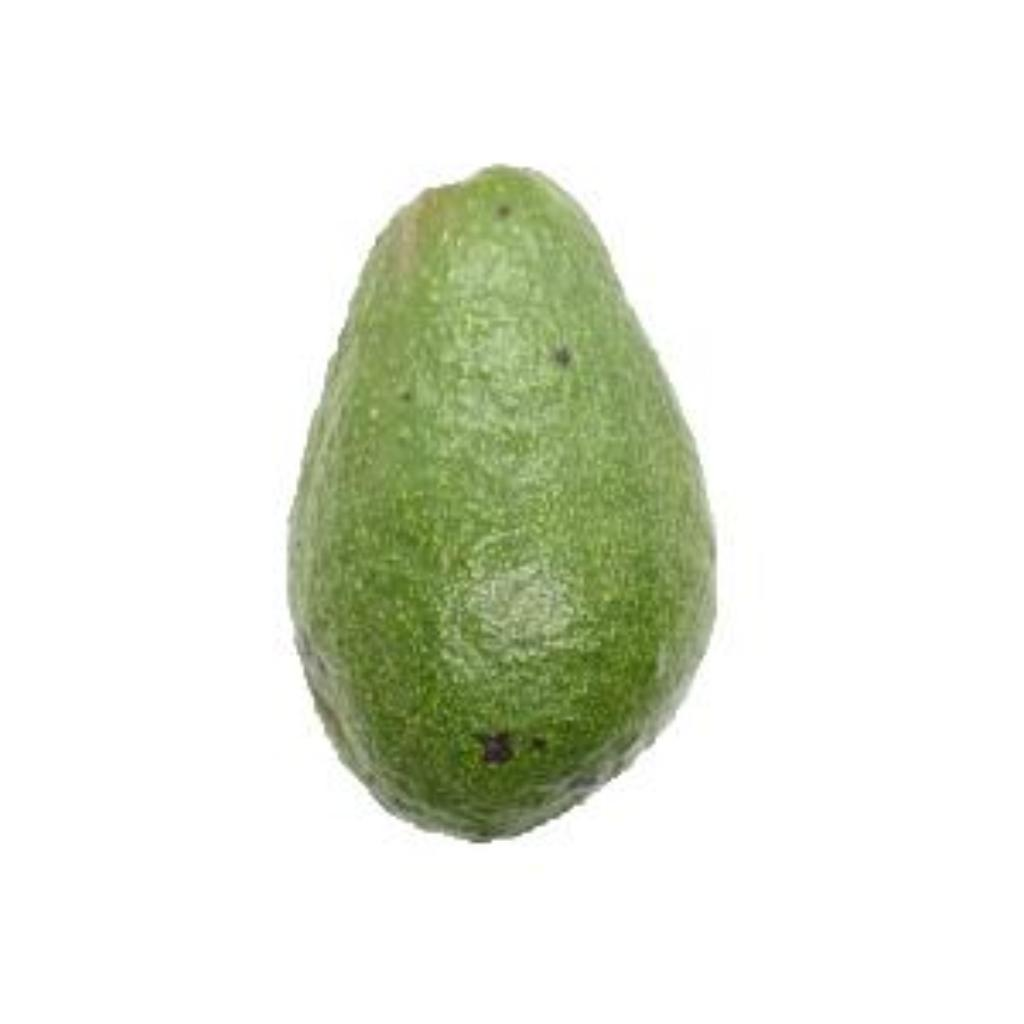cercospora_spot: (285, 125, 725, 855)
